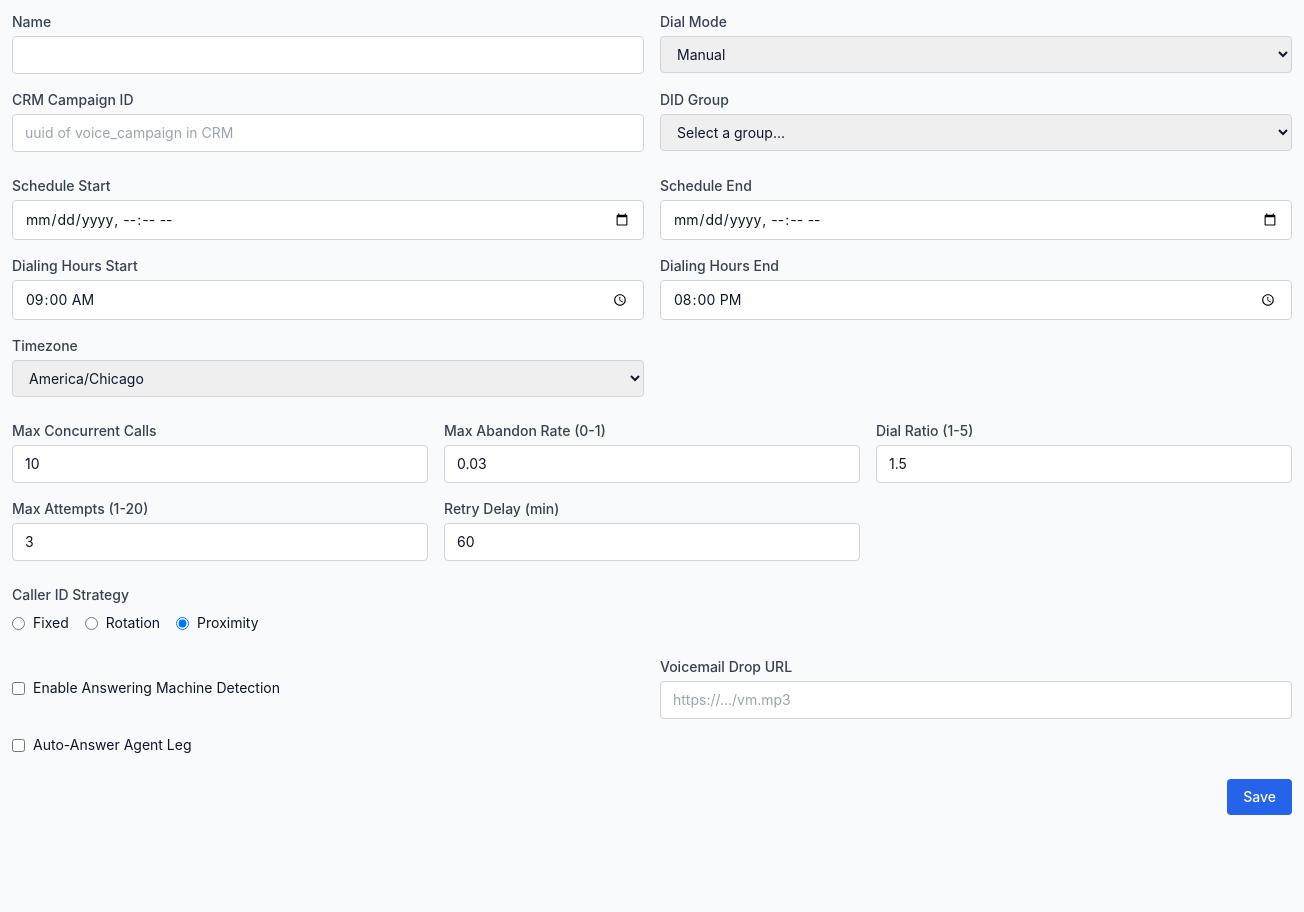
Scenario: CampaignForm render › shows validation errors when name missing
# DID group default is empty, so select g1 first to isolate the name check
Select "Group A" in the dropdown labelled "DID Group": (976, 132) [660,114,1292,151]
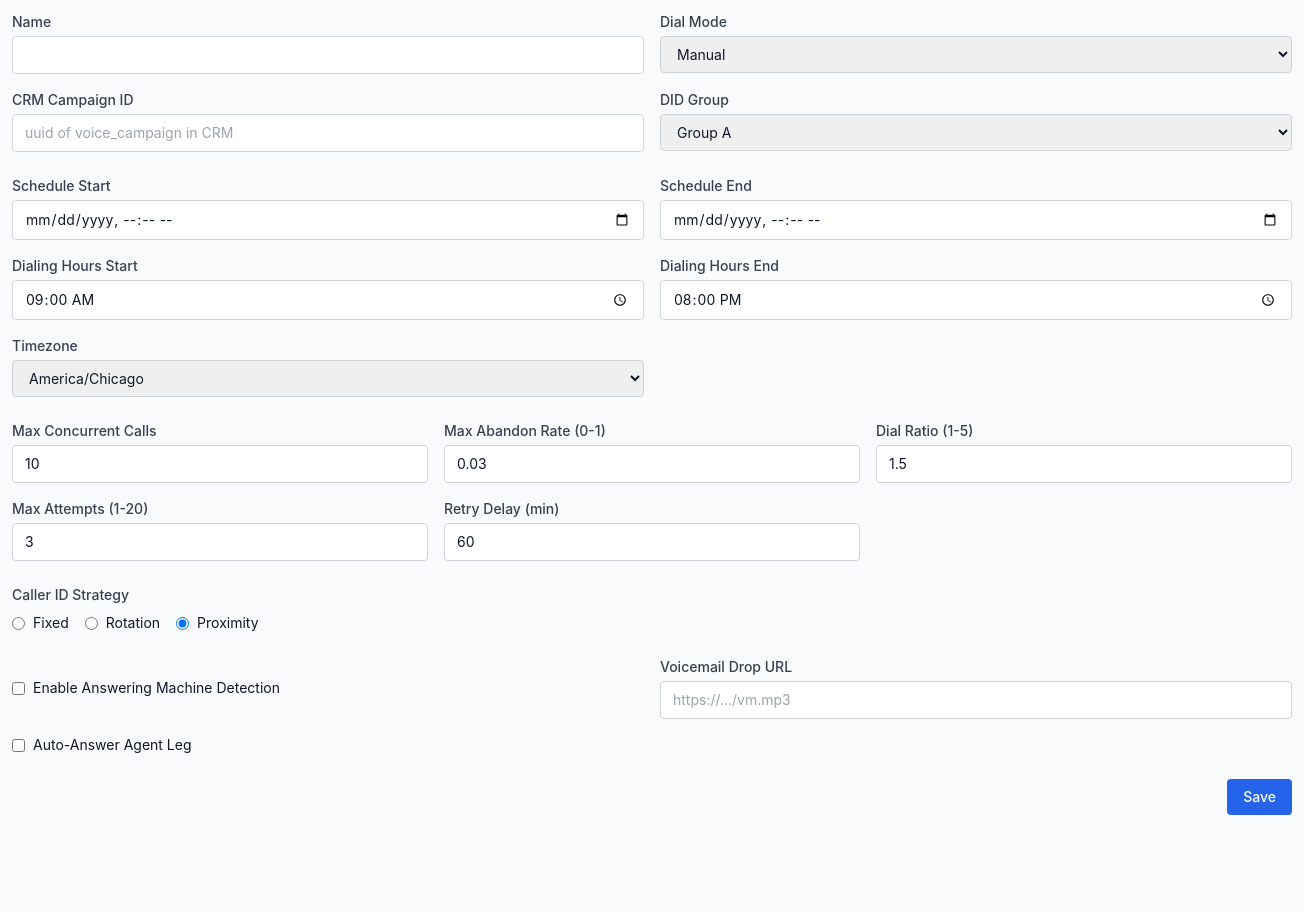
Click the button "Save": (1260, 797) [1227,779,1292,815]
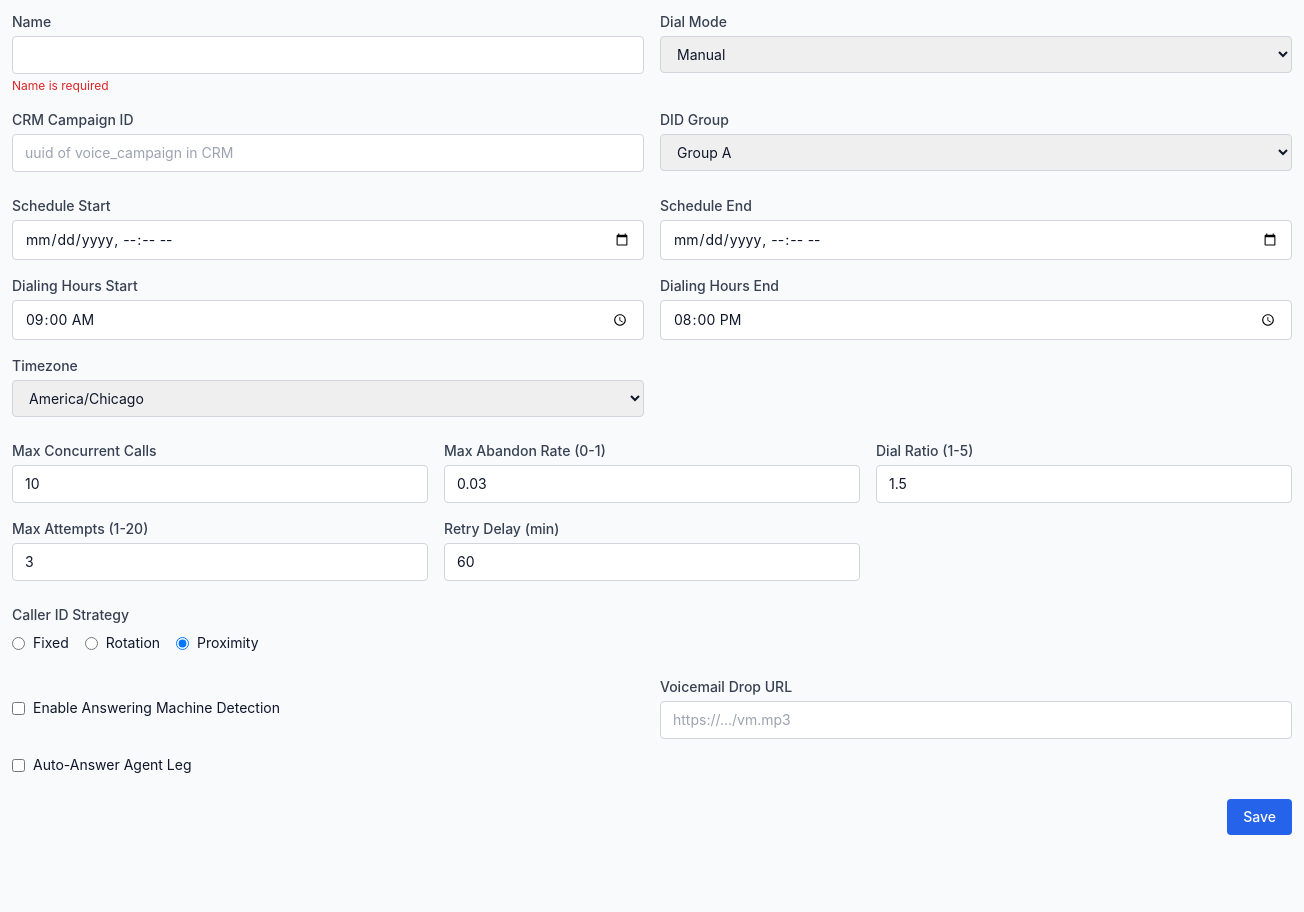
expect the text "Name is required" is shown: met, box [12,78,109,93]
